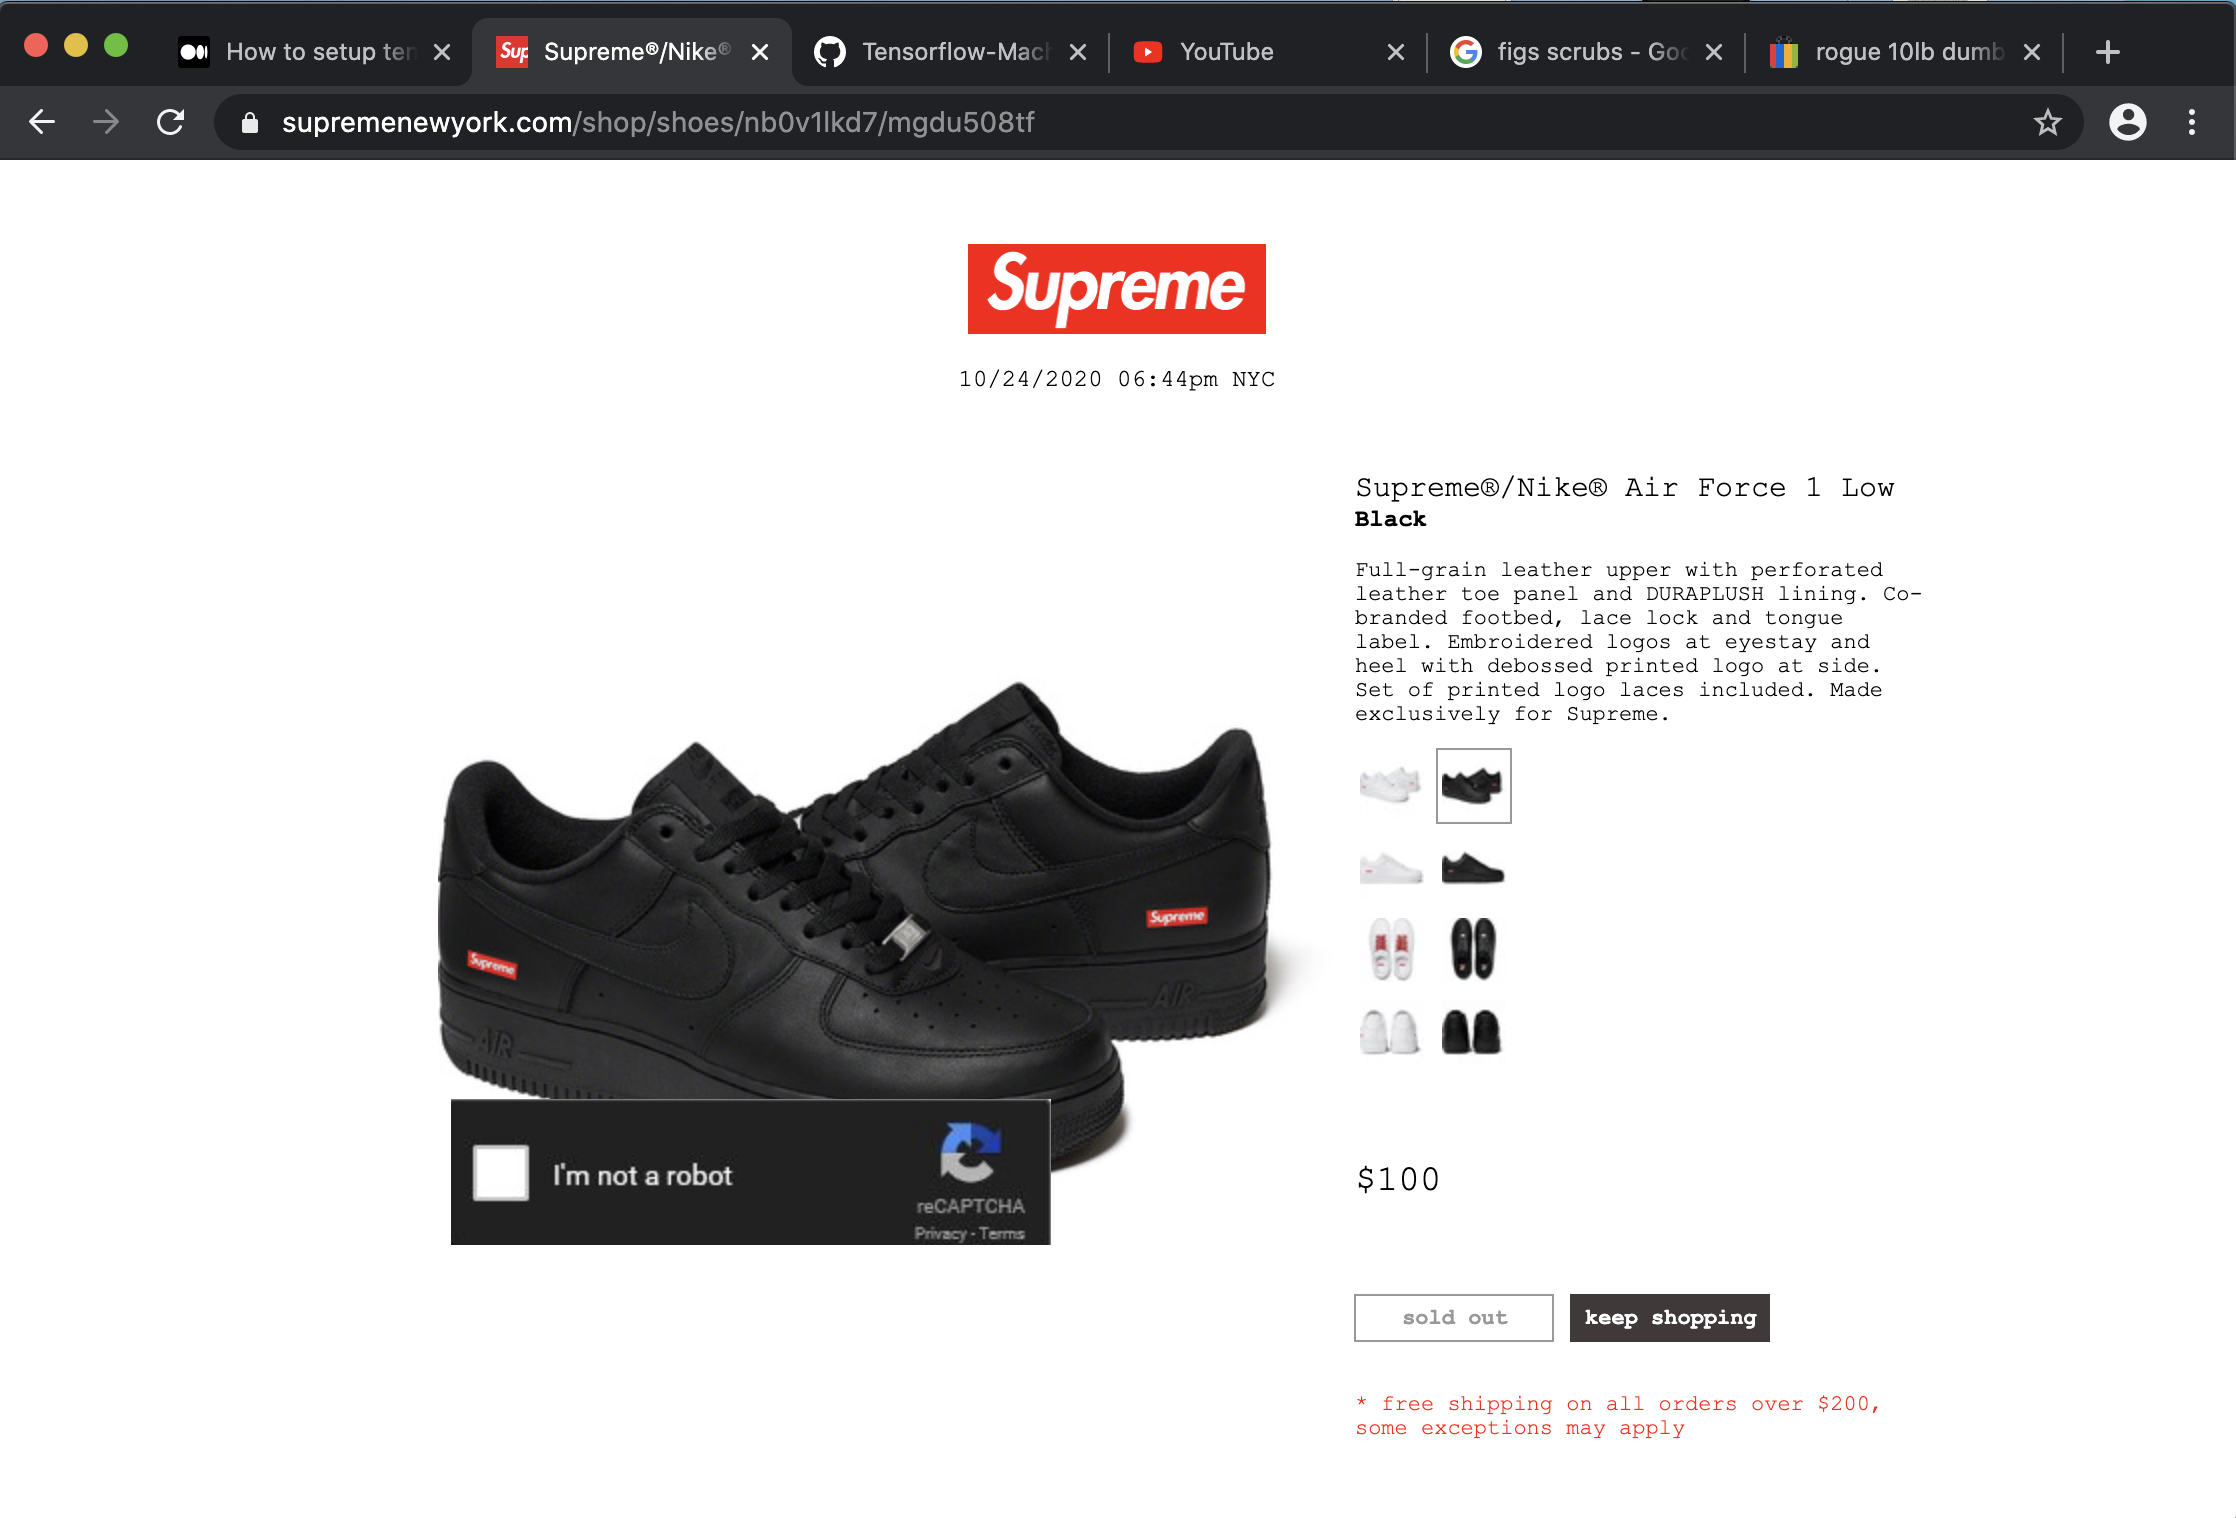captcha: (439, 1084, 1077, 1267)
